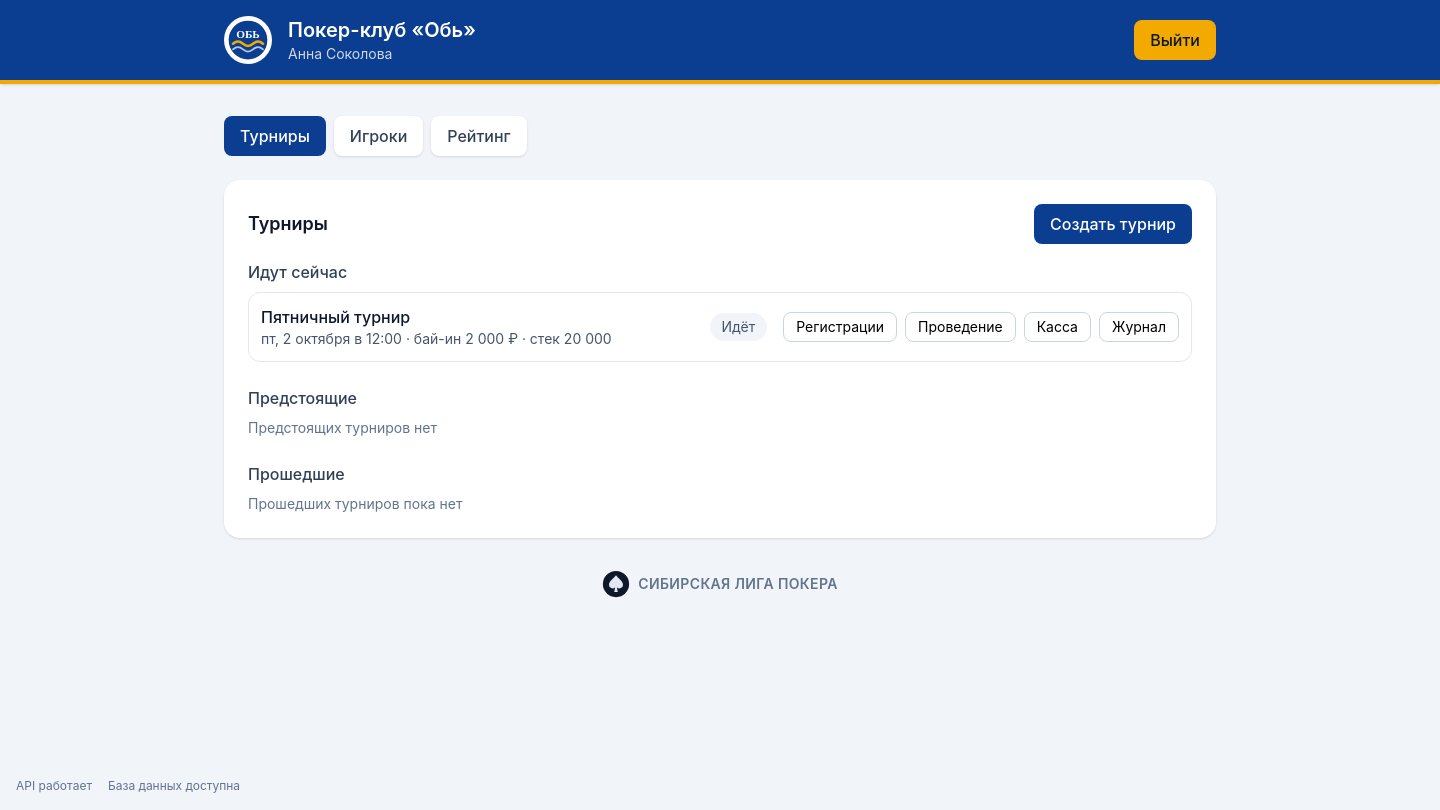
tournament cashier › lists every operation, the latest first, with a storno and what it reversed
The image size is (1440, 810).
Click the button "Касса": (1057, 327) top-left (1024, 312), bottom-right (1091, 342)
(page scrolled)
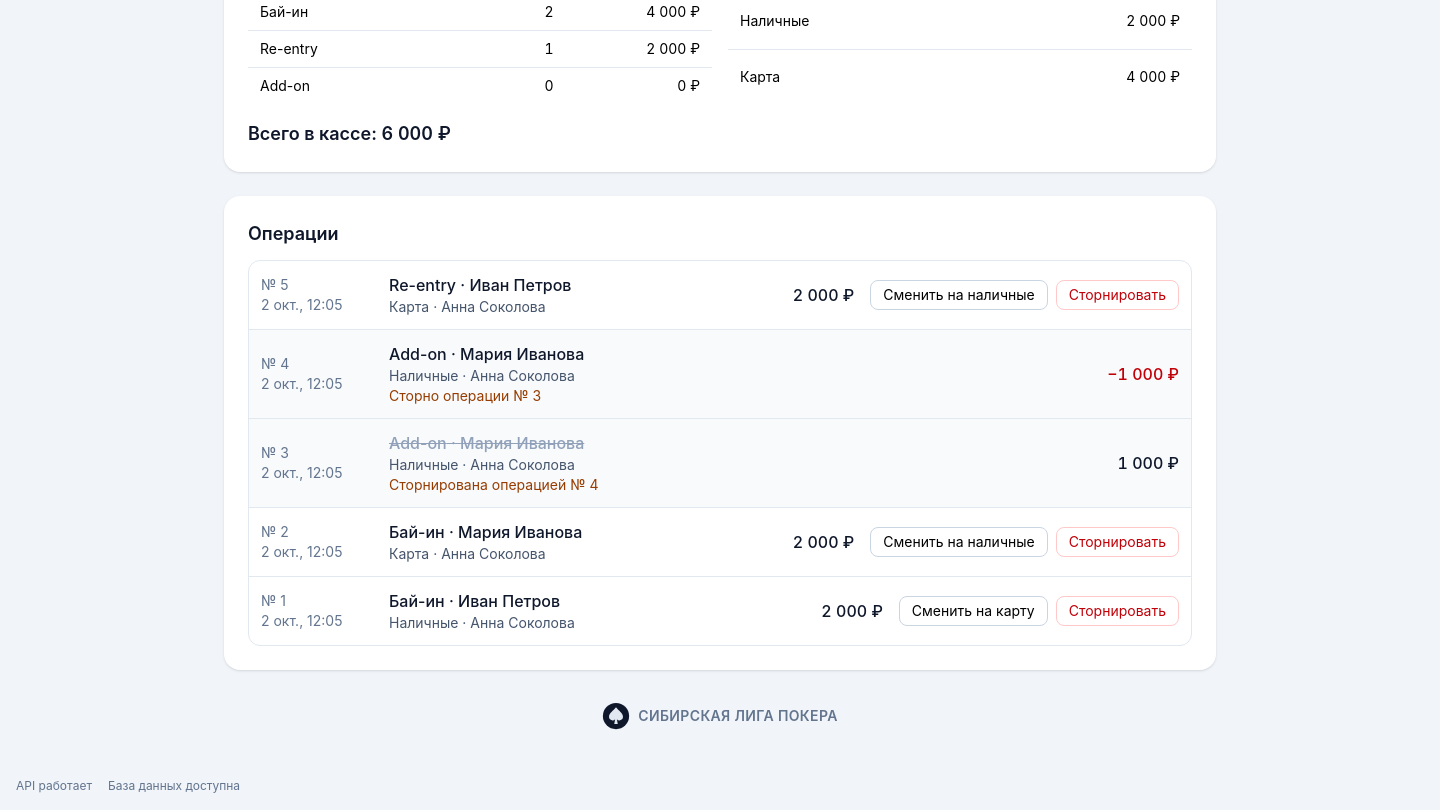
Check: the list item with aria-label "Операция № 5" shows "Re-entry", box top-left (389, 275), bottom-right (456, 295)
Check: the list item with aria-label "Операция № 5" shows "Иван Петров", box top-left (470, 275), bottom-right (572, 295)
Check: the list item with aria-label "Операция № 5" shows "Карта", box top-left (389, 298), bottom-right (429, 315)
